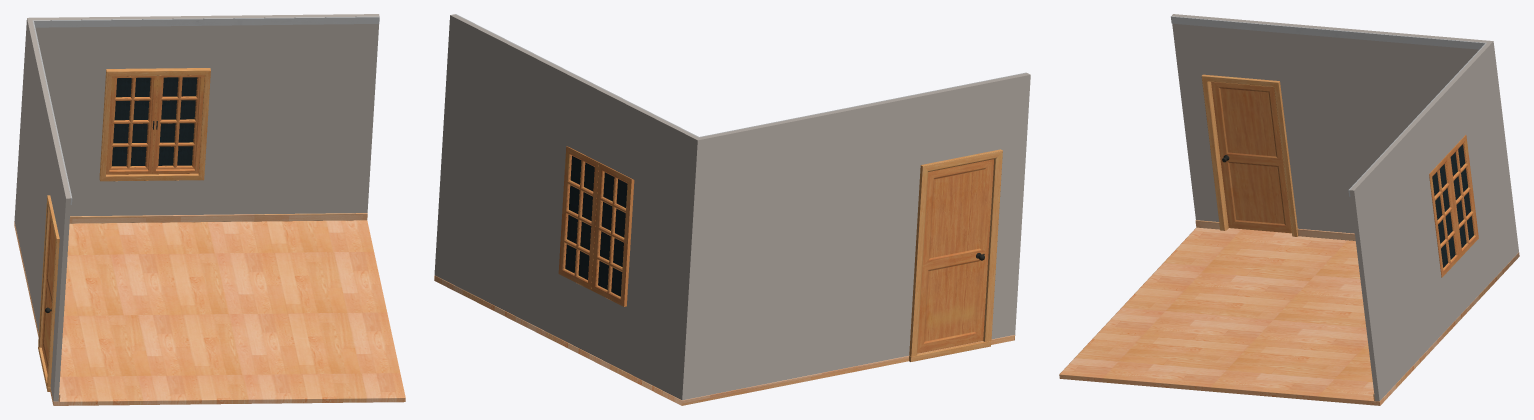
File: room_what_do_i_put_in_the_room_please_comment.glb
The picture shows the model from 3 angles, left to right: view 1: azimuth 30°, elevation 25°; view 2: azimuth 150°, elevation 25°; view 3: azimuth 270°, elevation 25°; orthographic projection. The views are drawn at different scales.
Visible parts, largest first — view 1: node_id30_1; view 2: node_id30_1; view 3: node_id30_1.
Boxes of the visible parts, box(x1,y1,x2,y2) form: node_id30_1: box(14, 14, 405, 405); node_id30_1: box(434, 14, 1030, 405); node_id30_1: box(1059, 14, 1519, 405).
Size of the model in its own units: 0.4921 by 0.3056 by 0.4893.
1 material, 1 textured.
